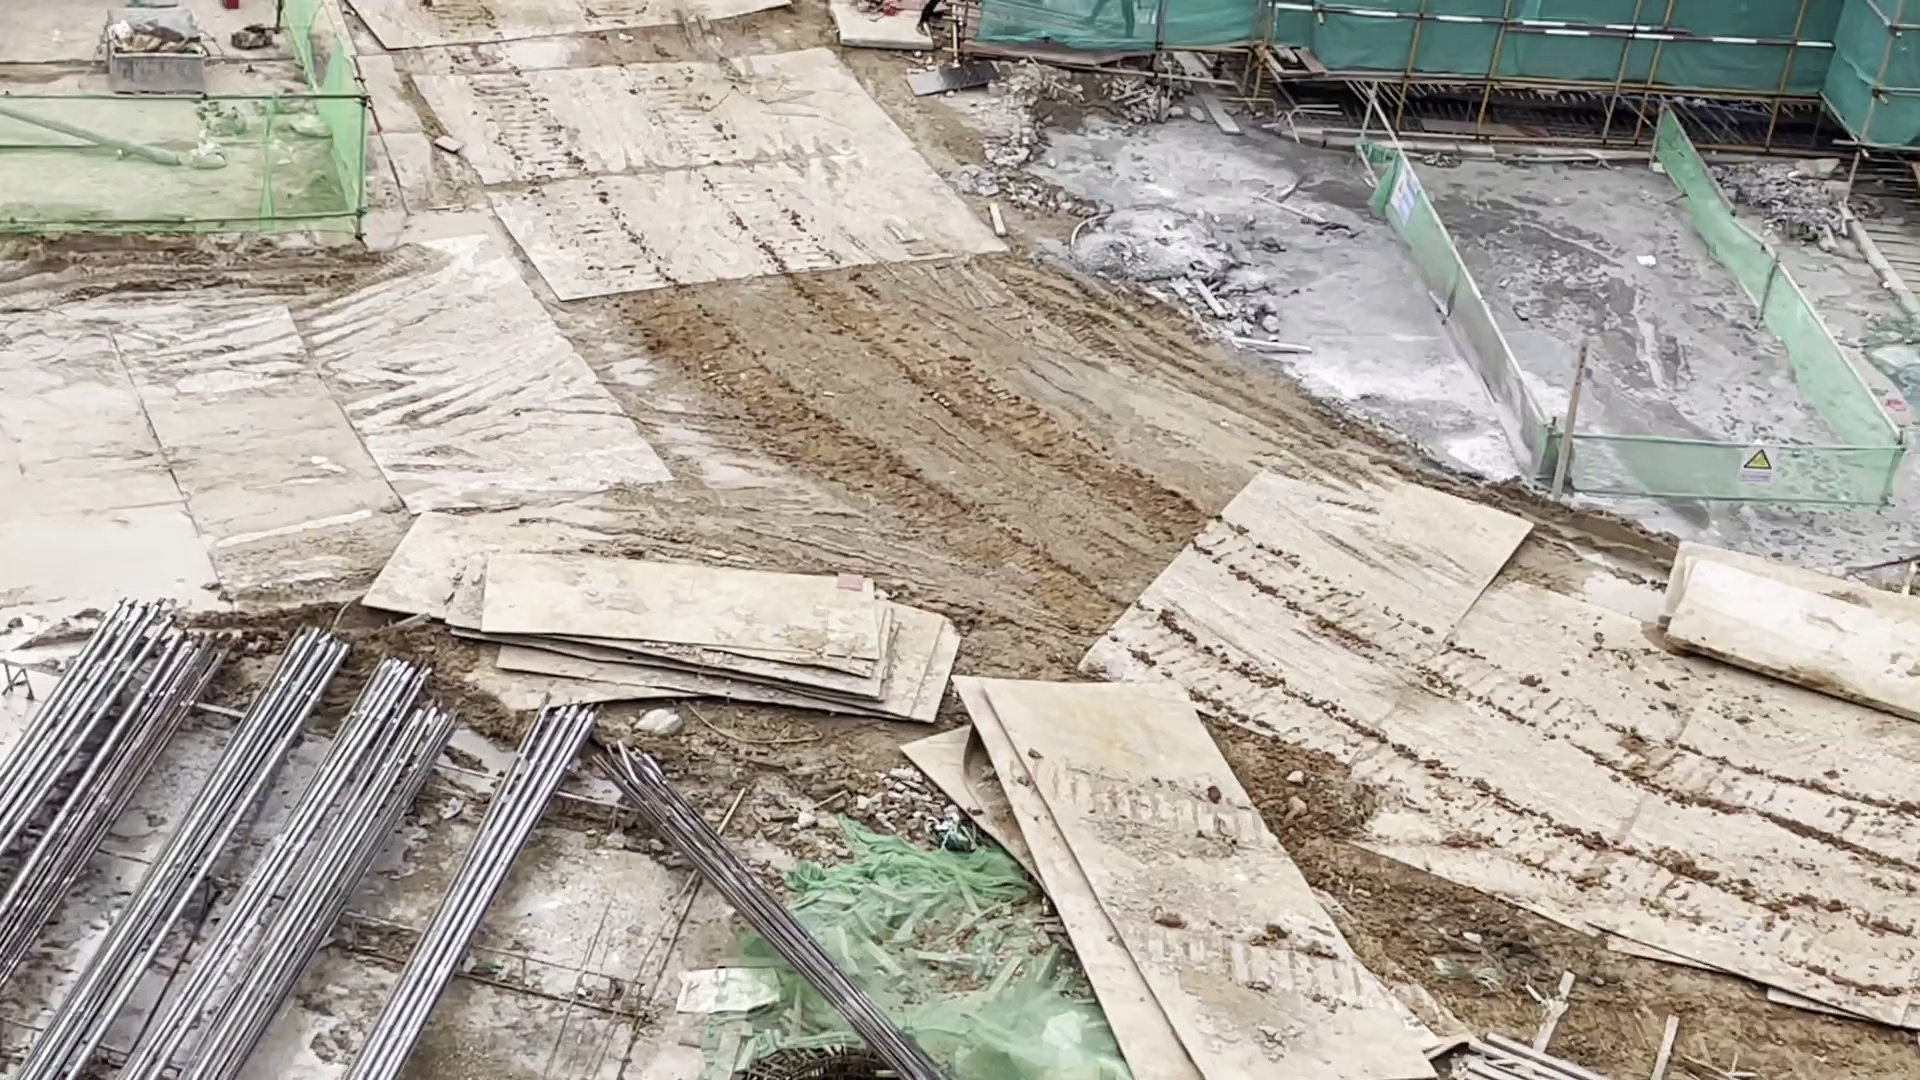hopper: (104, 5, 211, 103)
slogan: (1375, 166, 1427, 225), (1731, 448, 1778, 487)
